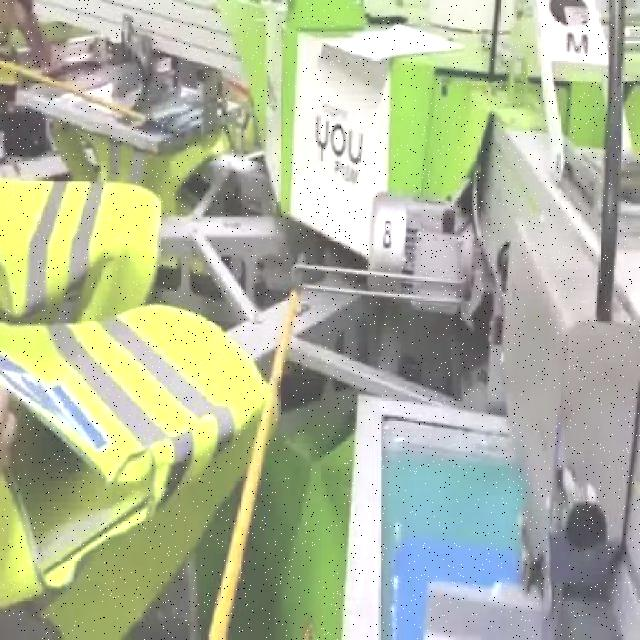Mask: (0, 314, 276, 640), (1, 179, 162, 321)
